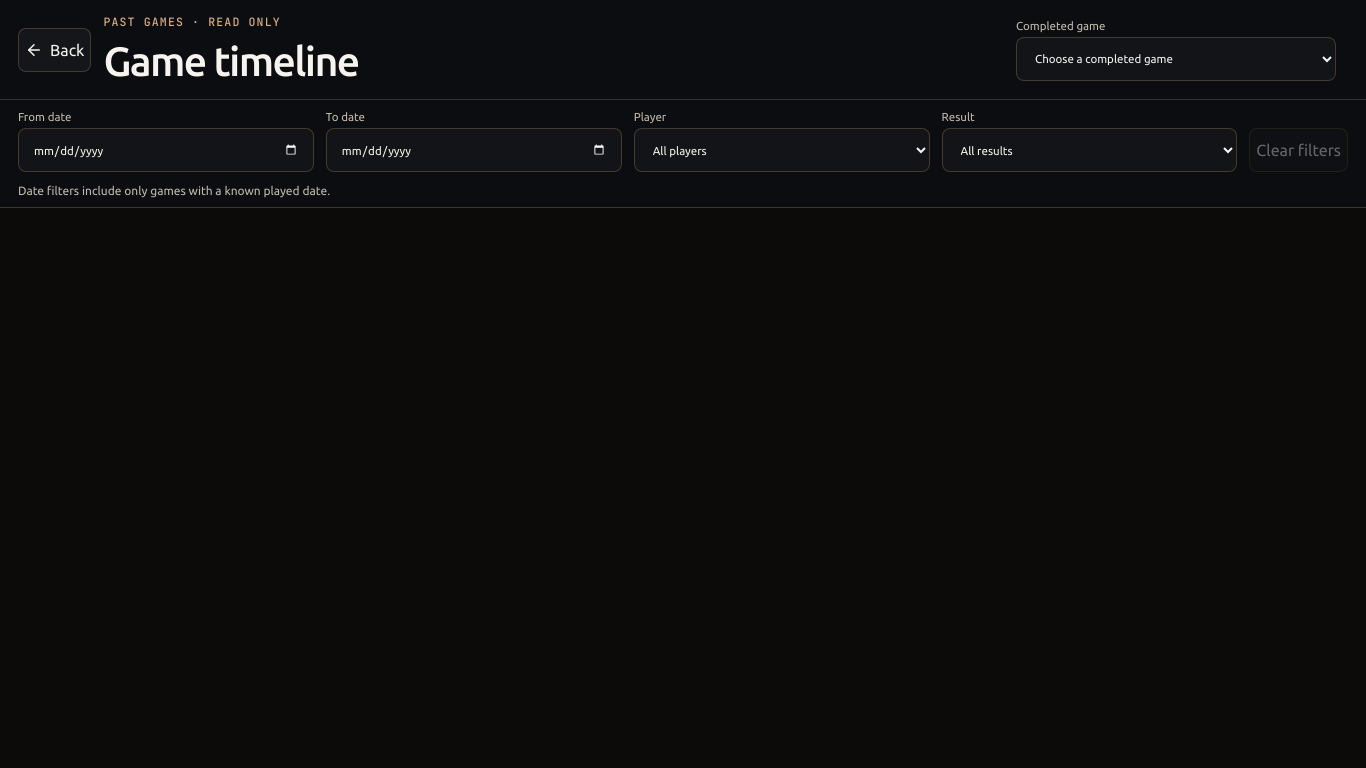
Test case: engine-independent completed records (en) › lists and opens an empty completed record normally without invented results, dates or controls
The image size is (1366, 768).
Select "Recorded table · Unknown outcome" in the dropdown labelled "Completed game" at (1176, 58), box [1016, 36, 1336, 80]
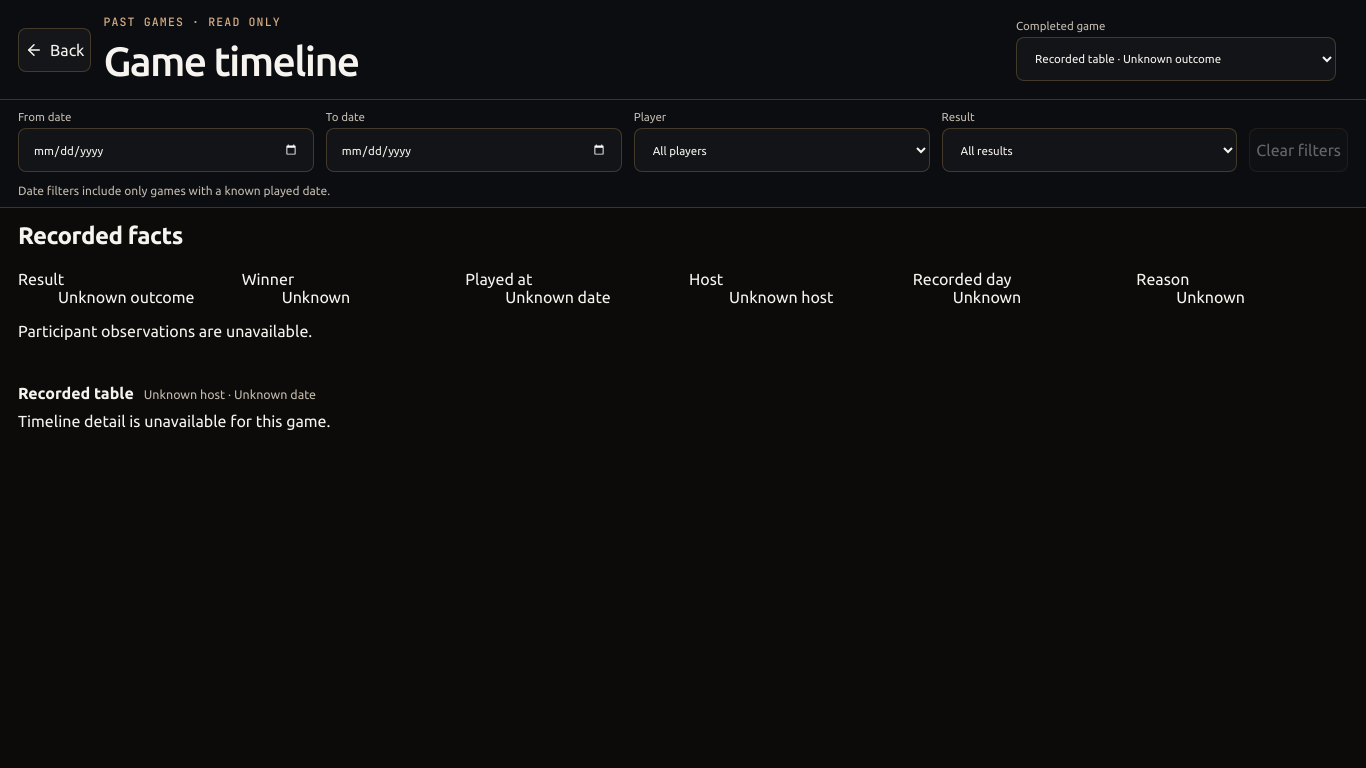
Expected: the text "Timeline detail is unavailable for this game." is shown, [18, 412, 330, 430]
Expected: the text "Unknown date" is shown, [505, 288, 611, 306]
Expected: the text "Unknown host" is shown, [729, 288, 833, 306]
